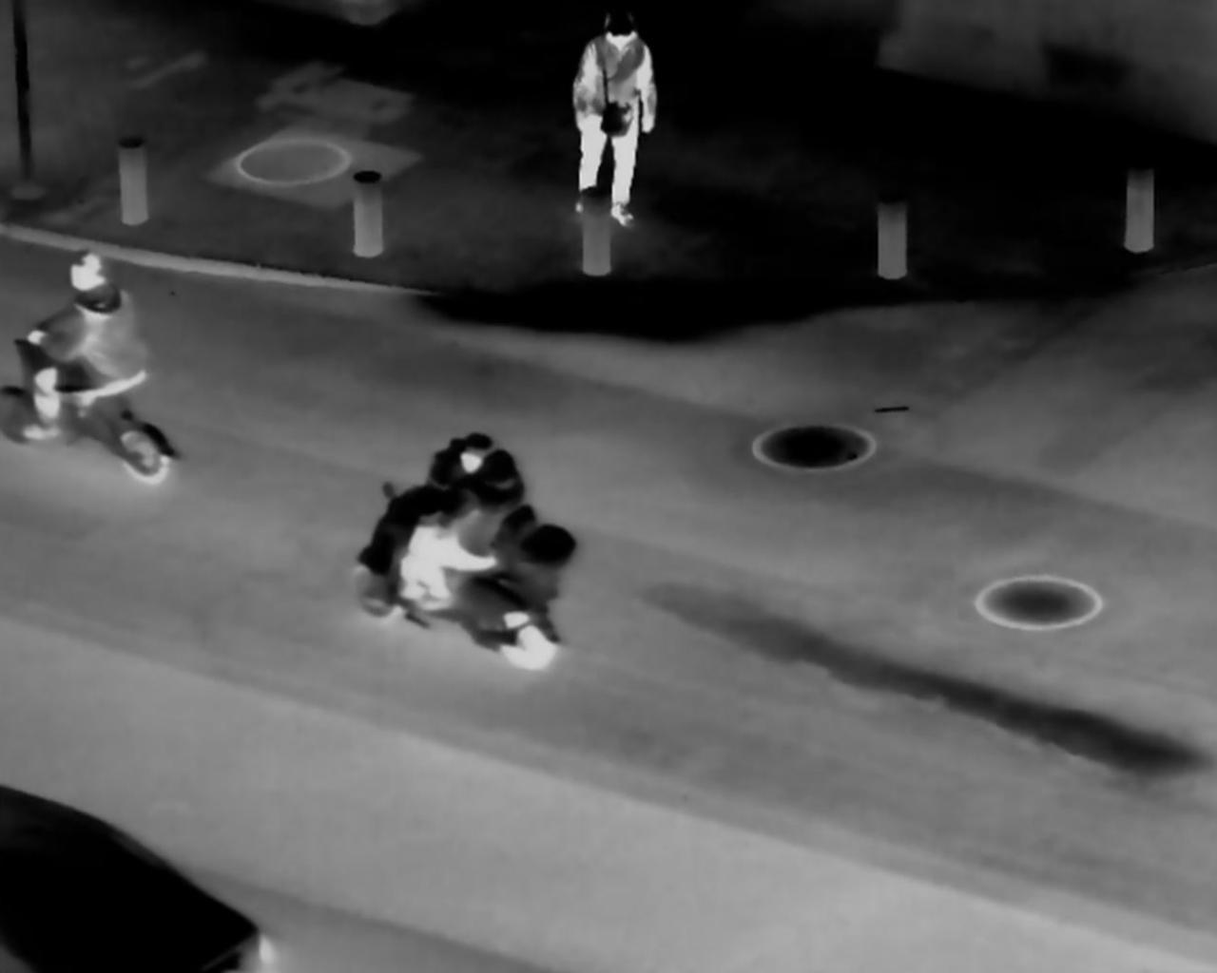person: (407, 428, 545, 647), (27, 236, 150, 457), (565, 2, 666, 228)
